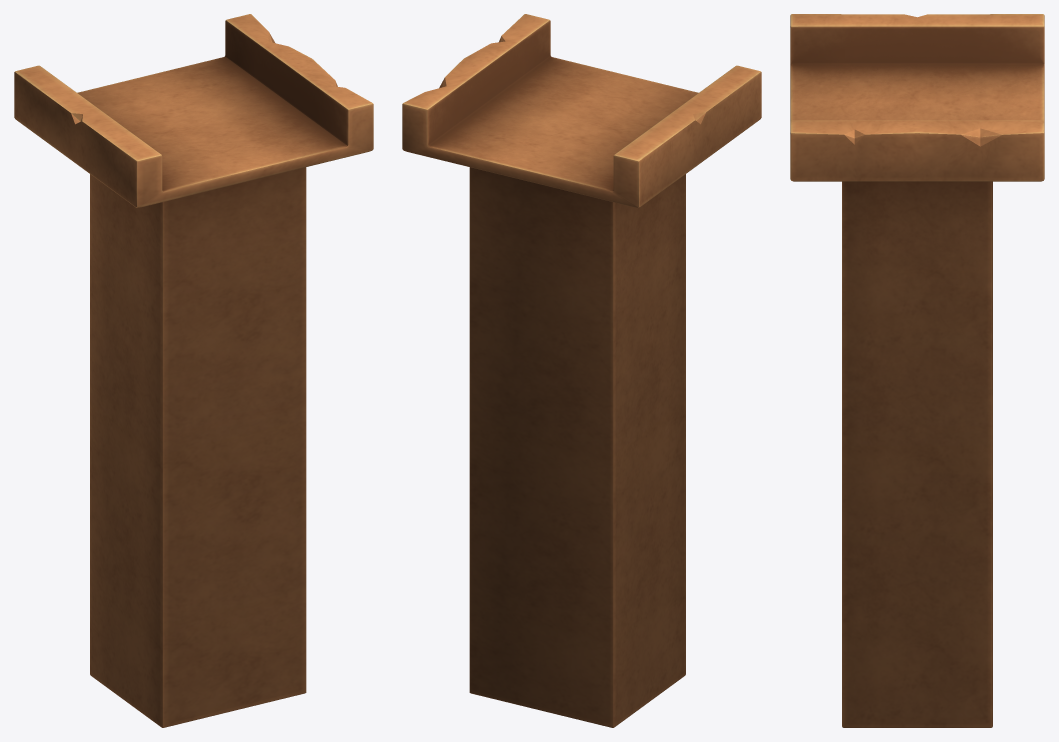
The model's file is start and end.fbx.
3 renders of one model, left to right at view 1: azimuth 30°, elevation 25°; view 2: azimuth 150°, elevation 25°; view 3: azimuth 270°, elevation 25°, orthographic. The views are drawn at different scales.
Visible parts, largest first — view 1: star and end; view 2: star and end; view 3: star and end.
Part boxes in pixels (x1=…): star and end: x1=14, y1=14, x2=373, y2=727; star and end: x1=402, y1=14, x2=761, y2=727; star and end: x1=790, y1=14, x2=1044, y2=727.
Bounding box in the file's own units: 4.42 × 10.65 × 3.98.
Materials: 1 (1 with a texture image).
